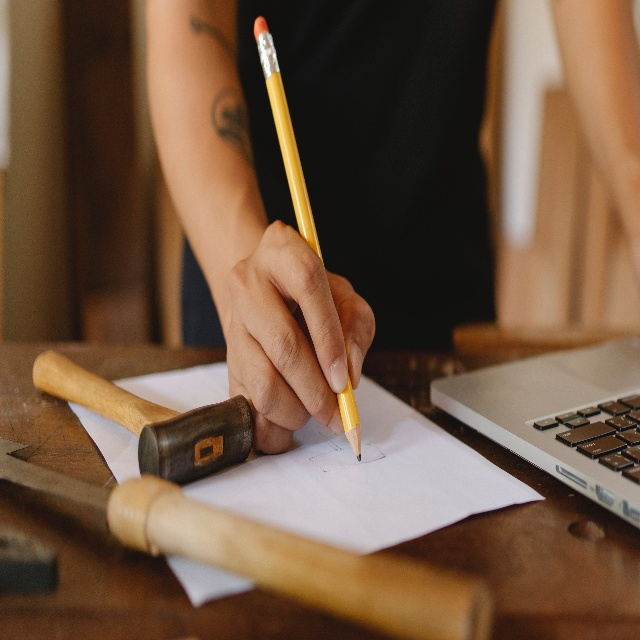Sin_guantes: (225, 215, 377, 460)
